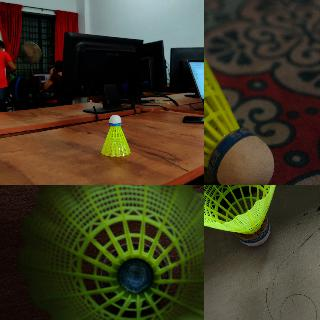shuttlecock: (18, 185, 203, 319), (204, 27, 276, 184), (204, 185, 282, 248), (100, 115, 130, 157)
